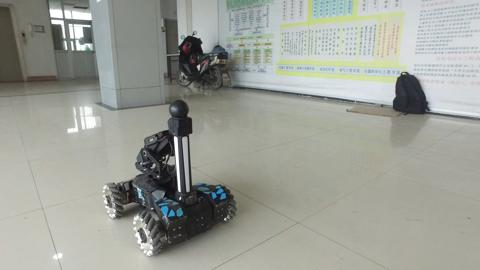bag: (392, 66, 433, 119)
chariot: (89, 100, 244, 257)
